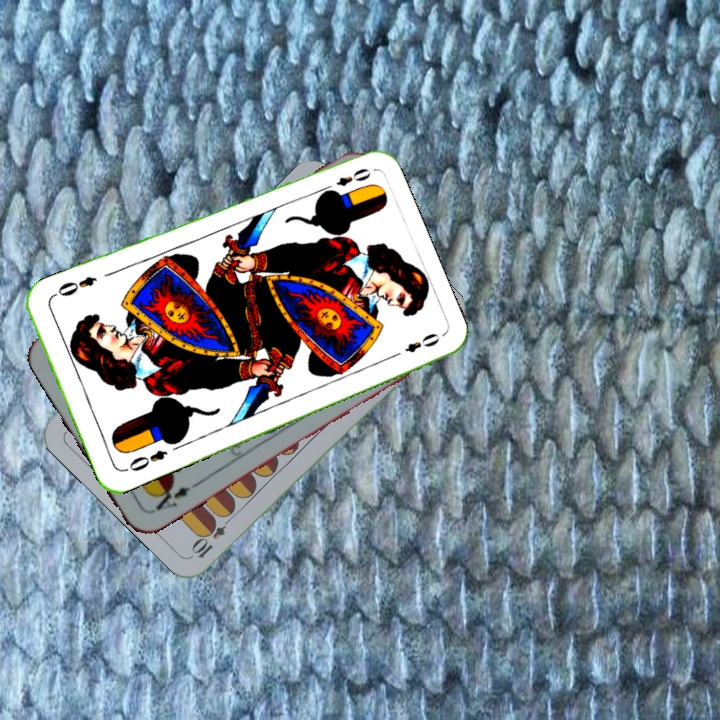E10: (188, 510, 236, 561)
EA: (146, 481, 194, 517)
EO: (120, 445, 170, 475), (332, 164, 374, 189)
